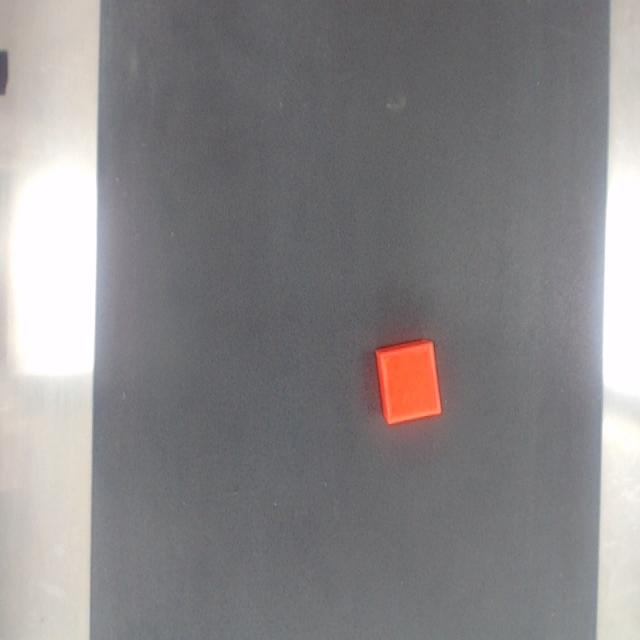Rojo: (375, 340, 441, 425)
